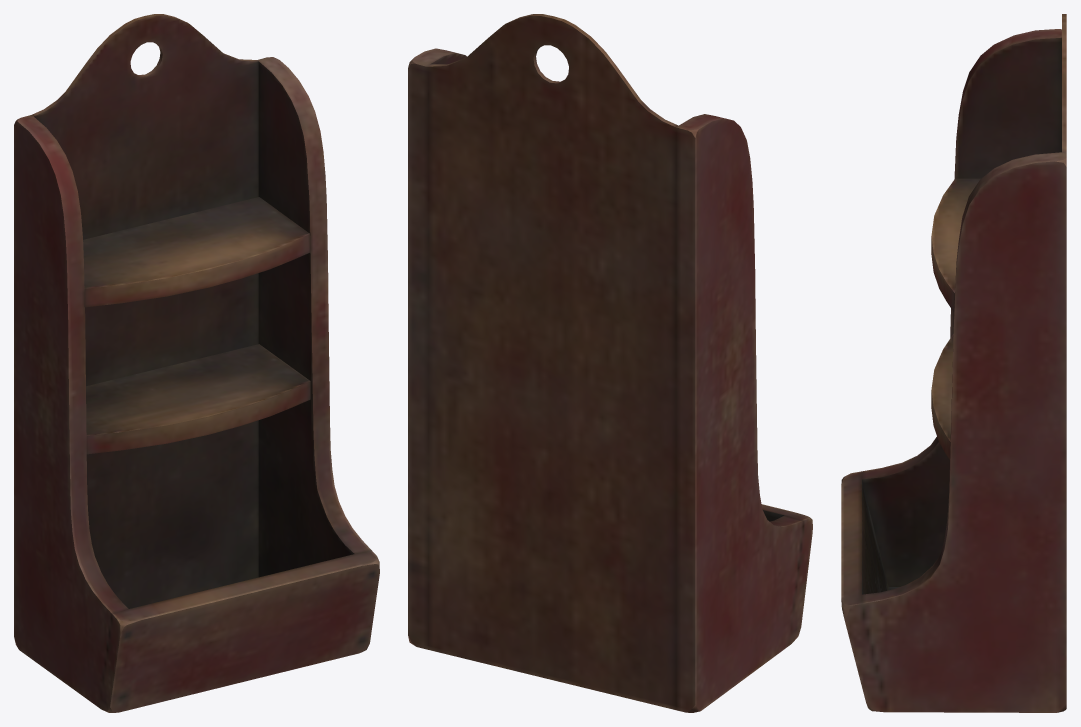
Rendered from painted_wooden_shelves.2d24a50fdb.glb.
The picture shows the model from 3 angles, left to right: view 1: azimuth 30°, elevation 25°; view 2: azimuth 150°, elevation 25°; view 3: azimuth 270°, elevation 25°; orthographic projection. The views are drawn at different scales.
Parts seen in each view (by area): view 1: painted_wooden_shelves; view 2: painted_wooden_shelves; view 3: painted_wooden_shelves.
Boxes of the visible parts, bbox=[...] form: painted_wooden_shelves: bbox=[14, 14, 379, 712]; painted_wooden_shelves: bbox=[408, 14, 812, 712]; painted_wooden_shelves: bbox=[841, 14, 1066, 712].
Size of the model in its own units: 0.5111 by 1.13 by 0.3671.
1 material, 1 textured.
